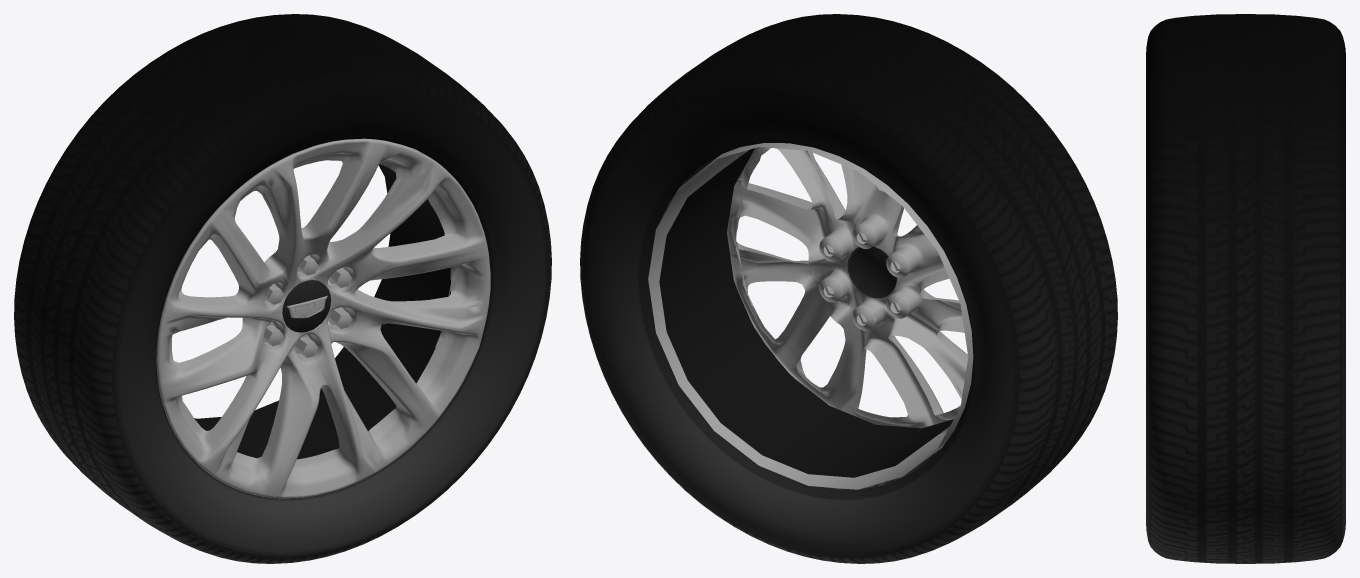
The picture shows the model from 3 angles, left to right: view 1: azimuth 30°, elevation 25°; view 2: azimuth 150°, elevation 25°; view 3: azimuth 270°, elevation 25°; orthographic projection.
Visible parts, largest first — view 1: set_ssx_swb_esv_wheel1; view 2: set_ssx_swb_esv_wheel1; view 3: set_ssx_swb_esv_wheel1.
Part boxes in pixels (box(x1,y1,x2,y2)): set_ssx_swb_esv_wheel1: box(14, 14, 551, 563); set_ssx_swb_esv_wheel1: box(580, 14, 1117, 563); set_ssx_swb_esv_wheel1: box(1146, 14, 1345, 563).
Size of the model in its own units: 0.8371 by 0.8371 by 0.3041.
